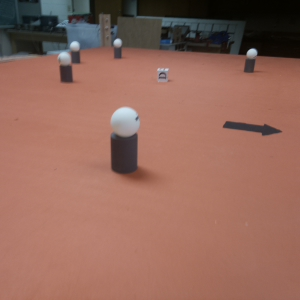blockD: (157, 68, 169, 83)
corner: (100, 14, 111, 48)
obstacle: (109, 107, 139, 172), (58, 53, 74, 81), (243, 49, 257, 74), (70, 41, 81, 62), (113, 39, 121, 58)
start: (222, 120, 282, 138)
